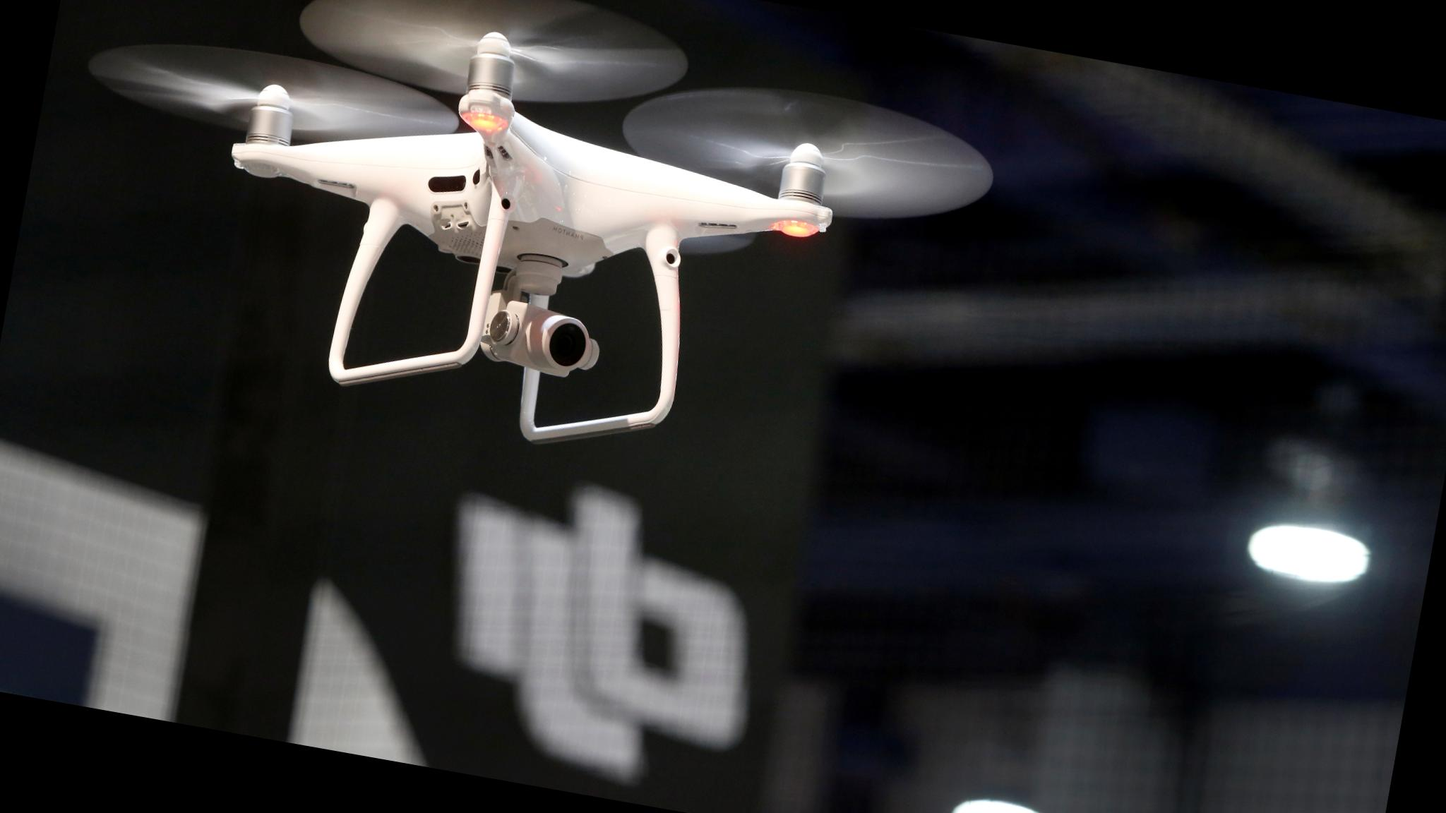drone: (78, 0, 988, 480)
